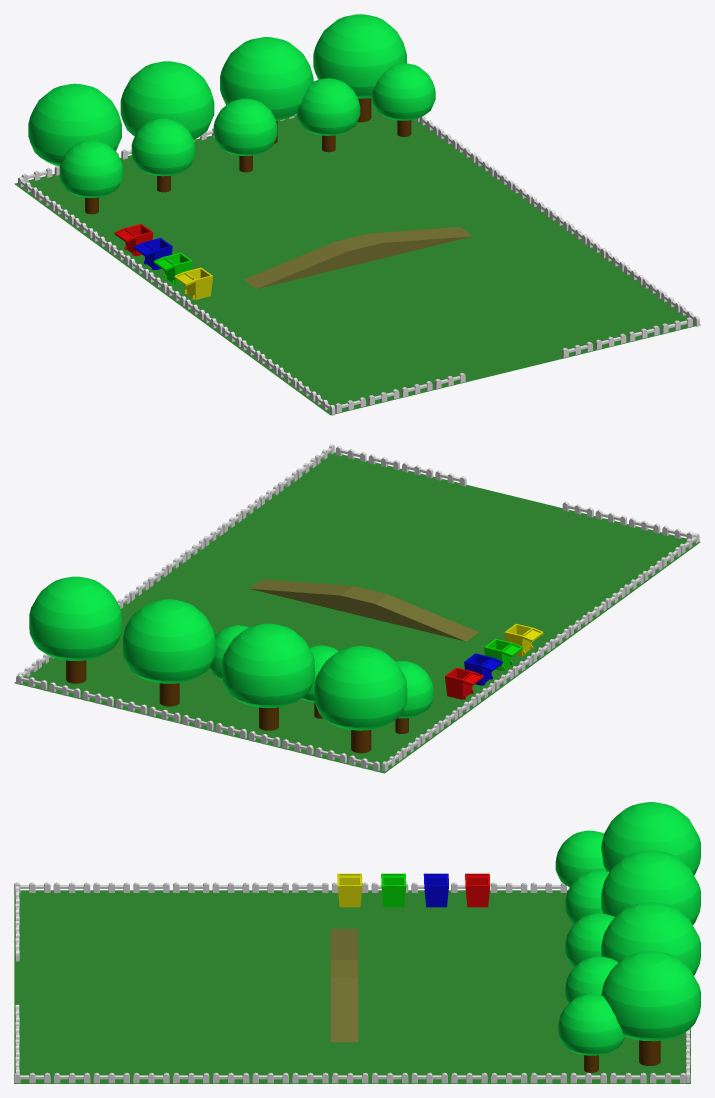
Rendered from MG-Caixa-d-Agua_campo.fbx.
3 renders of one model, top to bottom at view 1: azimuth 30°, elevation 25°; view 2: azimuth 150°, elevation 25°; view 3: azimuth 270°, elevation 25°, orthographic. The views are drawn at different scales.
Parts seen in each view (by area): view 1: pPlane1, polySurface688, polySurface687, polySurface684, polySurface686, pCube180, polySurface691, polySurface689, polySurface690, polySurface693, polySurface692, polySurface178 (+3 smaller); view 2: pPlane1, polySurface687, polySurface684, polySurface688, polySurface686, pCube180, polySurface690, polySurface682, polySurface691, polySurface178, polySurface680, polySurface681 (+1 smaller); view 3: pPlane1, polySurface688, polySurface686, polySurface684, polySurface687, polySurface693, pCube180, polySurface690, polySurface691, polySurface689, polySurface692, polySurface178 (+3 smaller).
Boxes of the visible parts, x1,y1,x2,y2 form: pPlane1: (14,99,700,415); polySurface688: (313,14,406,122); polySurface687: (220,37,313,143); polySurface684: (28,83,121,166); polySurface686: (120,61,214,139); pCube180: (244,227,472,288); polySurface691: (213,98,277,172); polySurface689: (131,118,195,192); polySurface690: (59,140,123,214); polySurface693: (371,63,435,136); polySurface692: (296,78,360,152); polySurface178: (174,267,213,299); pPlane1: (14,452,700,773); polySurface687: (122,599,215,706); polySurface684: (314,646,407,753); polySurface688: (29,576,121,683); polySurface686: (222,623,314,730); pCube180: (250,579,478,641); polySurface690: (395,661,433,733); polySurface682: (445,667,483,699); polySurface691: (209,625,248,679); polySurface178: (504,624,543,655); polySurface680: (484,638,522,670); polySurface681: (464,653,502,685); pPlane1: (14,890,690,1083); polySurface688: (601,950,700,1065); polySurface686: (601,850,700,924); polySurface684: (601,802,700,875); polySurface687: (601,902,700,975); polySurface693: (558,994,625,1072); pCube180: (330,929,358,1042); polySurface690: (555,830,605,887); polySurface691: (565,913,614,966); polySurface689: (565,870,609,923); polySurface692: (565,956,618,1003); polySurface178: (337,873,362,907).
Bounding box in the file's own units: 12.73 × 3.43 × 19.08.
